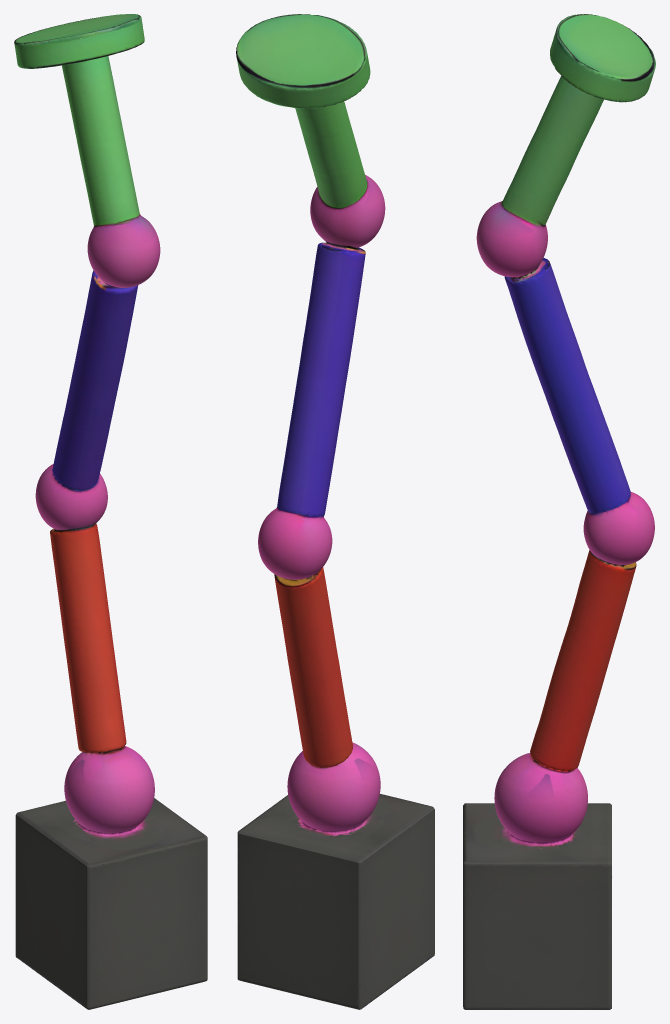
The model's file is hockey_v2.glb.
3 views of the same model, side by side, from view 1: azimuth 30°, elevation 25°; view 2: azimuth 150°, elevation 25°; view 3: azimuth 270°, elevation 25° (orthographic). The views are drawn at different scales.
Parts seen in each view (by area): view 1: tripo_node_f8f6a552-aca4-4e0f-882c-2b062ca07d9e; view 2: tripo_node_f8f6a552-aca4-4e0f-882c-2b062ca07d9e; view 3: tripo_node_f8f6a552-aca4-4e0f-882c-2b062ca07d9e.
Boxes of the visible parts, x1,y1,x2,y2 form: tripo_node_f8f6a552-aca4-4e0f-882c-2b062ca07d9e: [14, 14, 207, 1009]; tripo_node_f8f6a552-aca4-4e0f-882c-2b062ca07d9e: [236, 14, 434, 1009]; tripo_node_f8f6a552-aca4-4e0f-882c-2b062ca07d9e: [463, 14, 655, 1009].
Size of the model in its own units: 0.1355 by 1 by 0.1839.
Materials: 1 (1 with a texture image).
